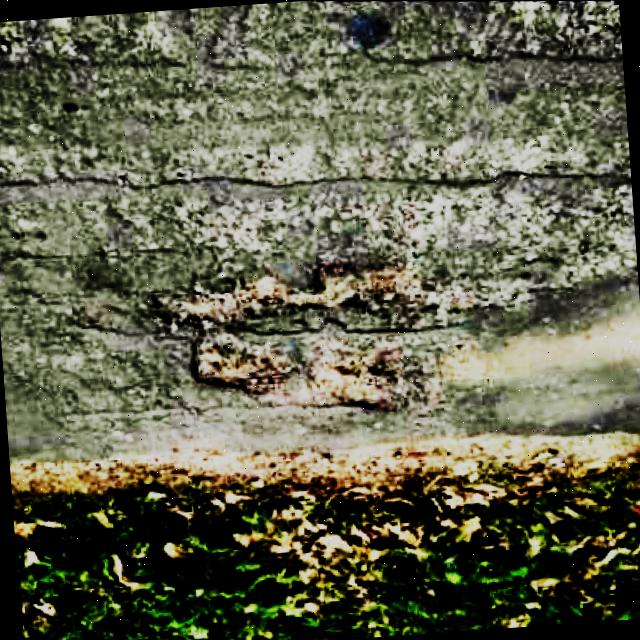pothole: (148, 240, 465, 430)
